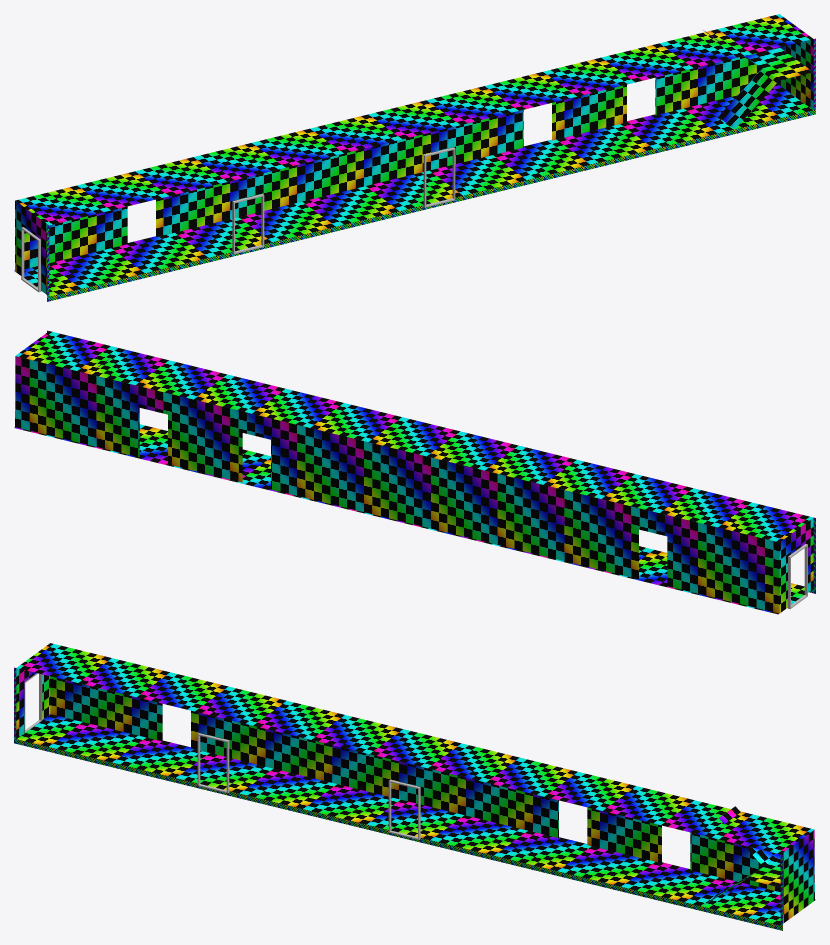
The model's file is MidLower.FBX.
3 views of the same model, one above another, from view 1: azimuth 30°, elevation 25°; view 2: azimuth 150°, elevation 25°; view 3: azimuth 330°, elevation 25° (orthographic).
Visible parts, largest first — view 1: MidLowerCorridorWall, MidLowerCorridorCeiling, MidLowerCorridorFloor, MidLowerBeams, MidLowerStair, MidLowerDoorFrameKitchen, MidLLowerDoorFrameDining; view 2: MidLowerCorridorWall, MidLowerCorridorCeiling, MidLowerCorridorFloor; view 3: MidLowerCorridorWall, MidLowerCorridorCeiling, MidLowerCorridorFloor, MidLowerBeams, MidLowerStair, MidLLowerDoorFrameDining, MidLowerDoorFrameKitchen.
Part boxes in pixels (box(x1,y1,x2,y2)): MidLowerCorridorWall: box(15, 39, 813, 294); MidLowerCorridorCeiling: box(15, 14, 812, 225); MidLowerCorridorFloor: box(14, 85, 813, 296); MidLowerBeams: box(47, 38, 815, 301); MidLowerStair: box(703, 30, 813, 128); MidLowerDoorFrameKitchen: box(423, 147, 455, 207); MidLLowerDoorFrameDining: box(232, 194, 264, 254); MidLowerCorridorWall: box(15, 356, 813, 613); MidLowerCorridorCeiling: box(15, 331, 813, 542); MidLowerCorridorFloor: box(14, 424, 804, 614); MidLowerCorridorWall: box(16, 668, 814, 923); MidLowerCorridorCeiling: box(17, 643, 814, 854); MidLowerCorridorFloor: box(16, 714, 815, 925); MidLowerBeams: box(14, 667, 782, 930); MidLowerStair: box(704, 806, 780, 904); MidLLowerDoorFrameDining: box(197, 733, 229, 793); MidLowerDoorFrameKitchen: box(388, 779, 420, 839).
Bounding box in the file's own units: 1337 × 134 × 111.
